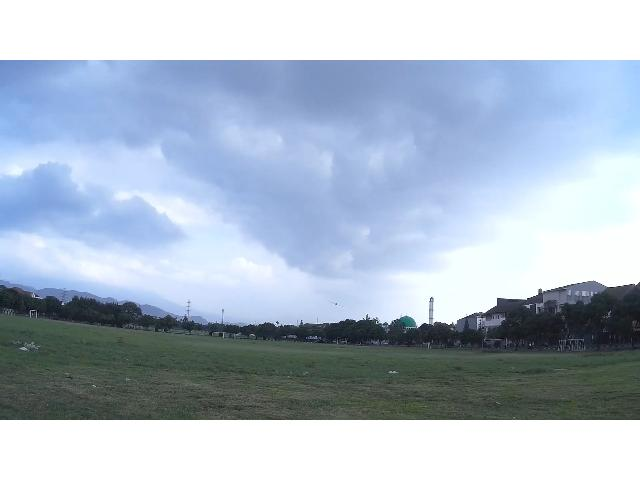Anti-Drone: (327, 301, 345, 308)
